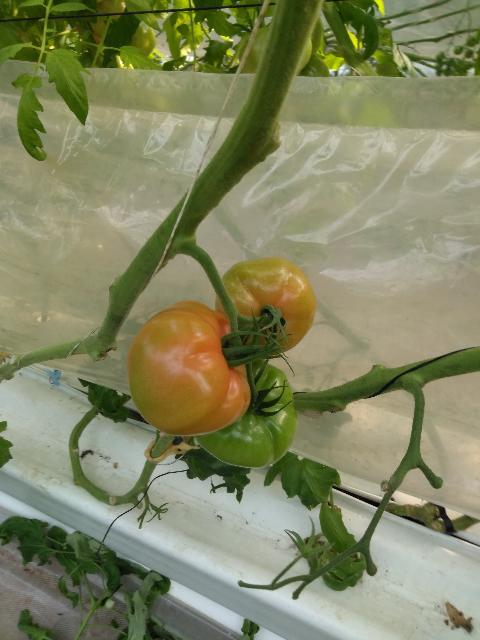b_green: (194, 358, 298, 468)
b_half_ripened: (127, 299, 251, 436), (215, 258, 318, 355)
